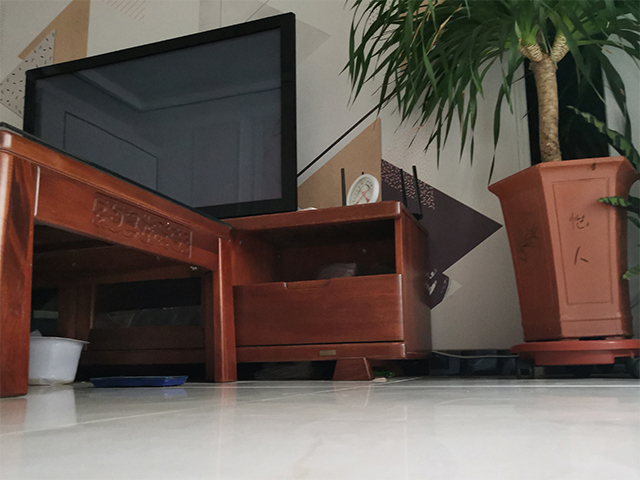cabinet: (1, 199, 437, 387)
table: (1, 118, 242, 400)
wire: (429, 348, 520, 362)
